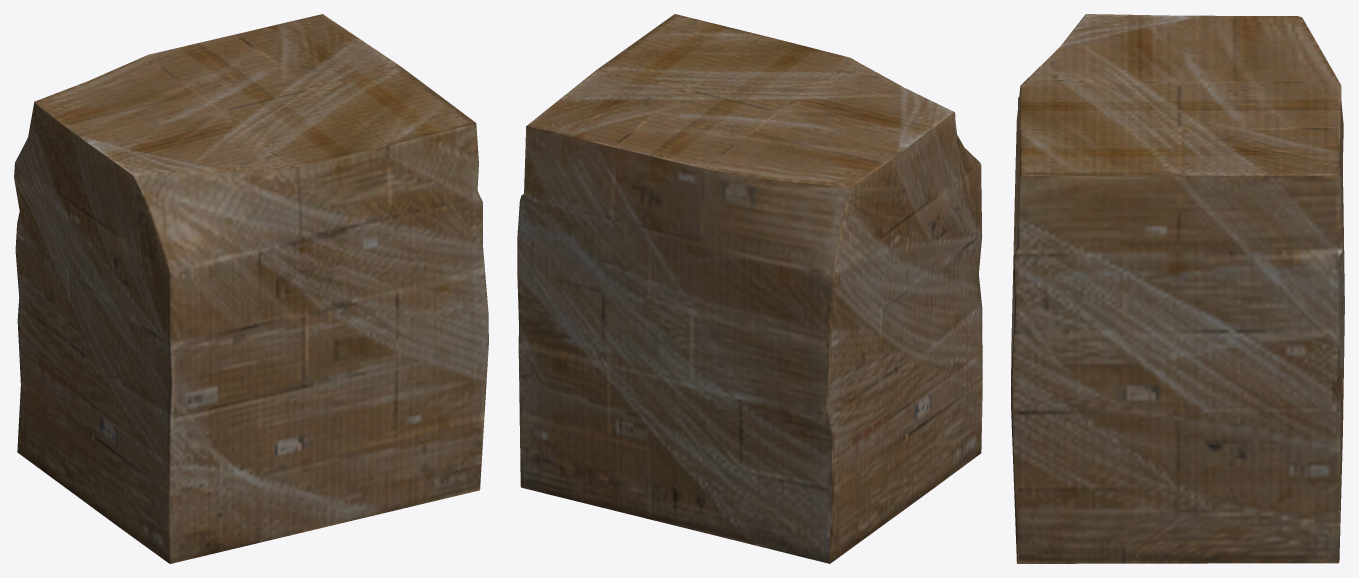
File: 073_vinybox02.fbx
3 renders of one model, left to right at view 1: azimuth 30°, elevation 25°; view 2: azimuth 150°, elevation 25°; view 3: azimuth 270°, elevation 25°, orthographic. The views are drawn at different scales.
Parts seen in each view (by area): view 1: LOD_1_Group_0_Sub_1__sm36_073_Vinylbox02A_A_Mat; view 2: LOD_1_Group_0_Sub_1__sm36_073_Vinylbox02A_A_Mat; view 3: LOD_1_Group_0_Sub_1__sm36_073_Vinylbox02A_A_Mat.
Boxes of the visible parts, x1,y1,x2,y2 form: LOD_1_Group_0_Sub_1__sm36_073_Vinylbox02A_A_Mat: [14, 14, 488, 563]; LOD_1_Group_0_Sub_1__sm36_073_Vinylbox02A_A_Mat: [517, 14, 982, 563]; LOD_1_Group_0_Sub_1__sm36_073_Vinylbox02A_A_Mat: [1011, 14, 1344, 563].
Size of the model in its own units: 0.9367 by 1.02 by 0.7944.
